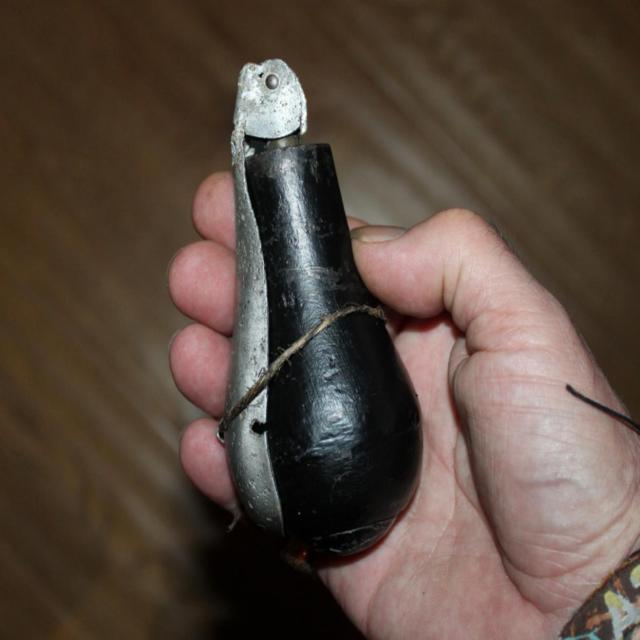grenade: (224, 57, 426, 571)
